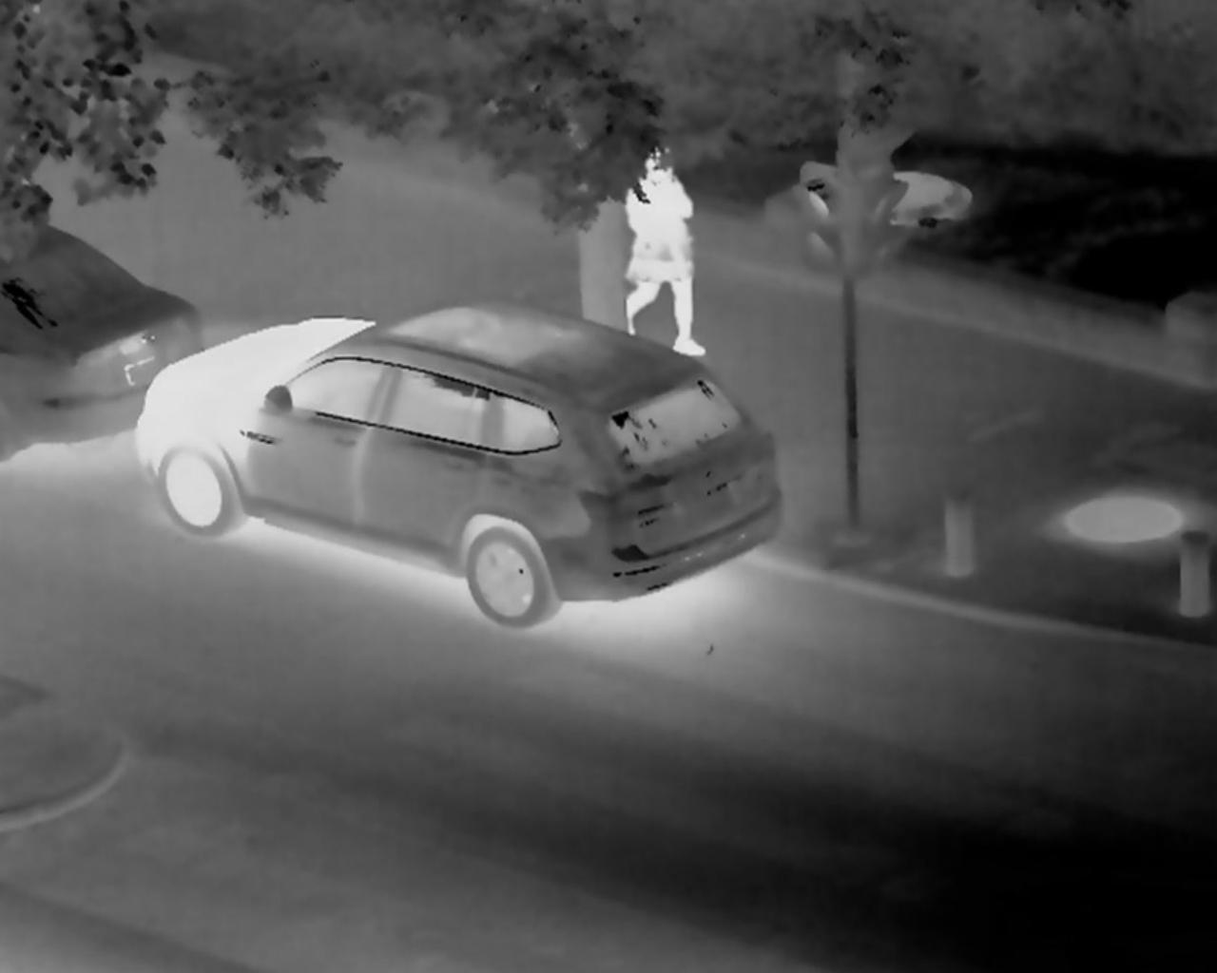person: (618, 143, 718, 364)
